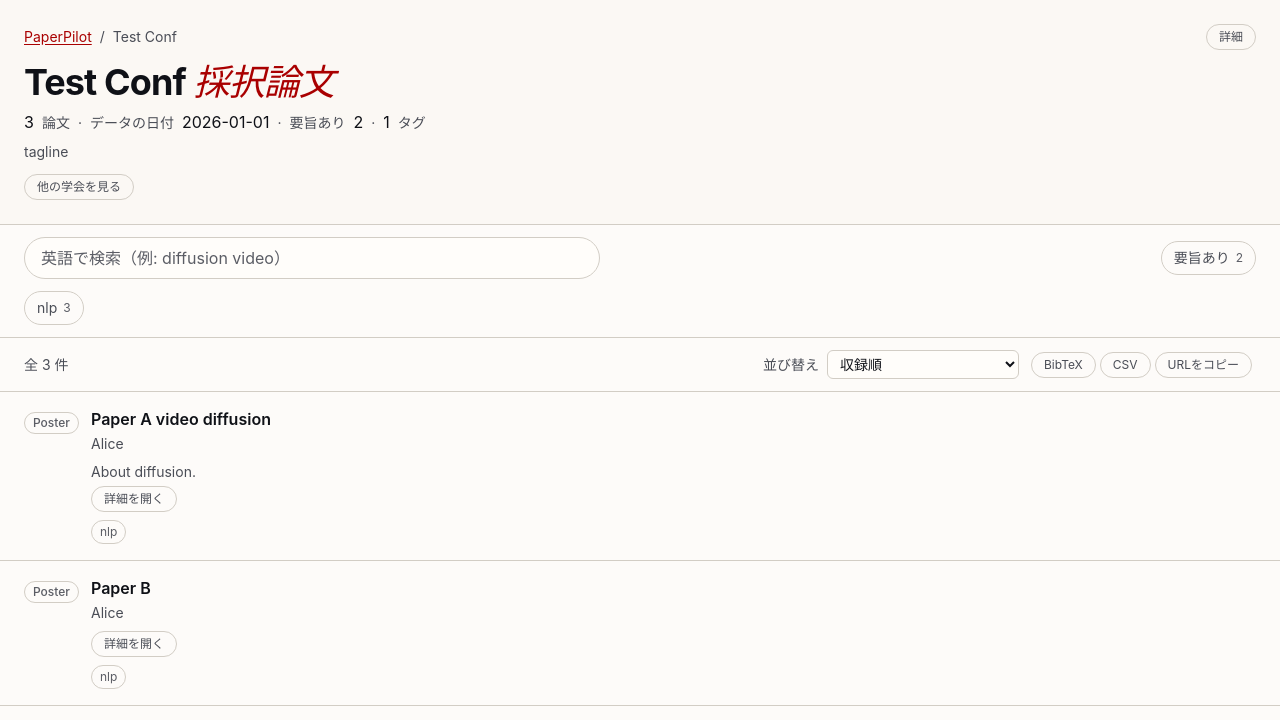
Test: CatalogApp UX audit (design doc 53) › filters to rows with an abstract and writes abs=1 to the URL
Check: the text "Paper B" is shown, box [91,578,151,598]
Check: the text "全 3 件" is shown, box [24,354,68,374]
Step 1. Click the button "要旨あり 2" → (1208, 258), box [1161,241,1256,275]
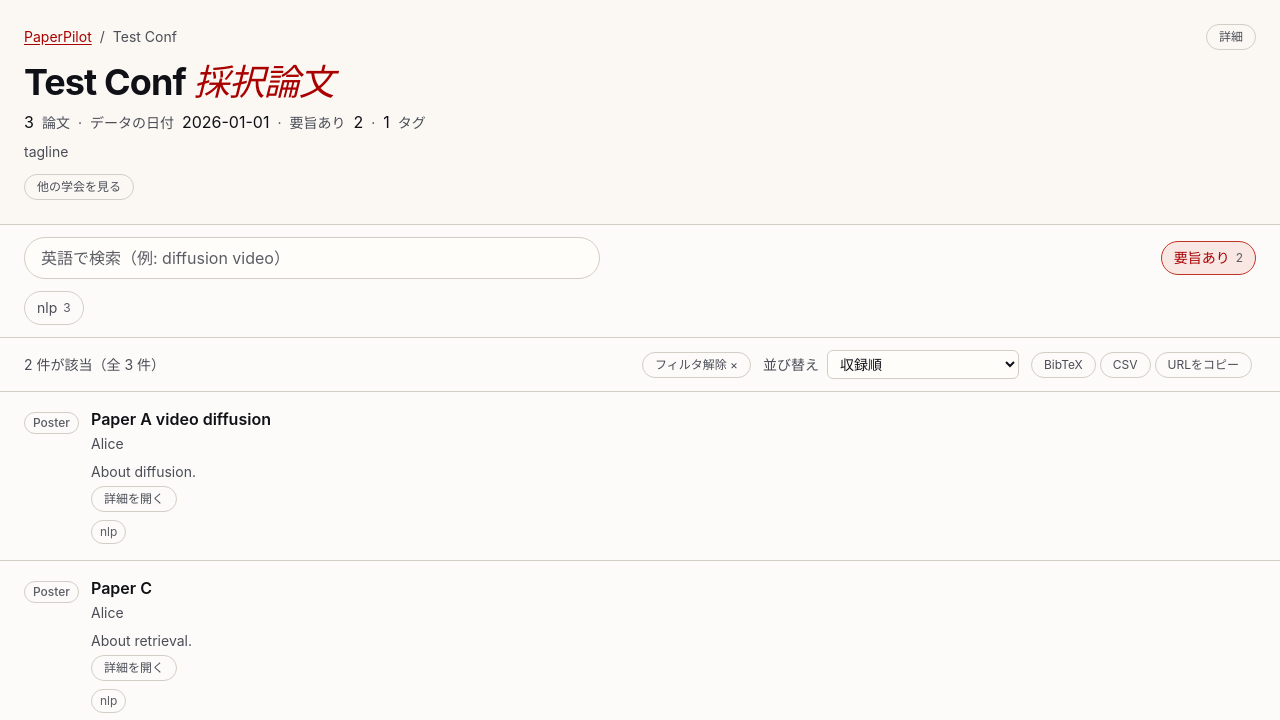
Check: the text "2 件が該当（全 3 件）" is shown, box [24,354,165,374]
Check: the link "Paper B" is gone
Step 2. Click the button "フィルタ解除 ×" → (696, 364), box [642,352,751,378]
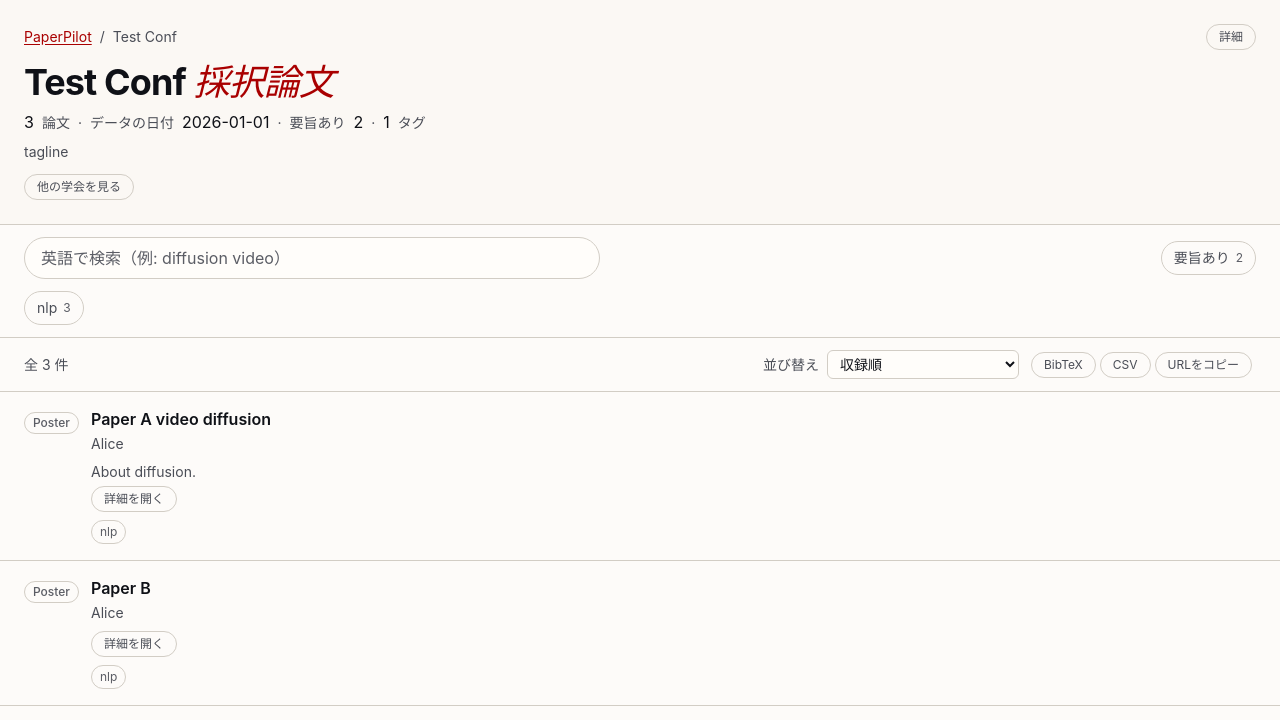
Check: the text "Paper B" is shown, box [91,578,151,598]
